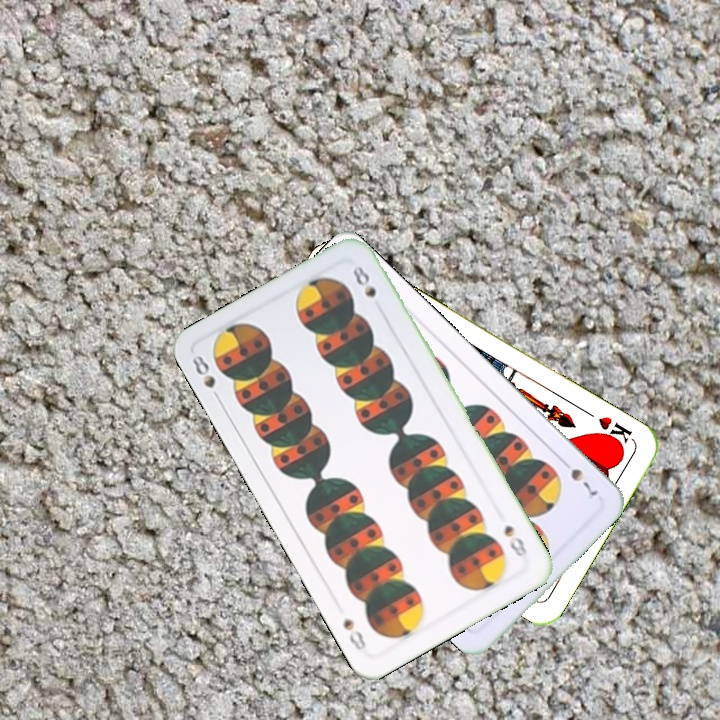HK: (582, 407, 636, 451)
S7: (556, 454, 601, 499)
S8: (188, 351, 224, 406), (500, 521, 530, 560)
